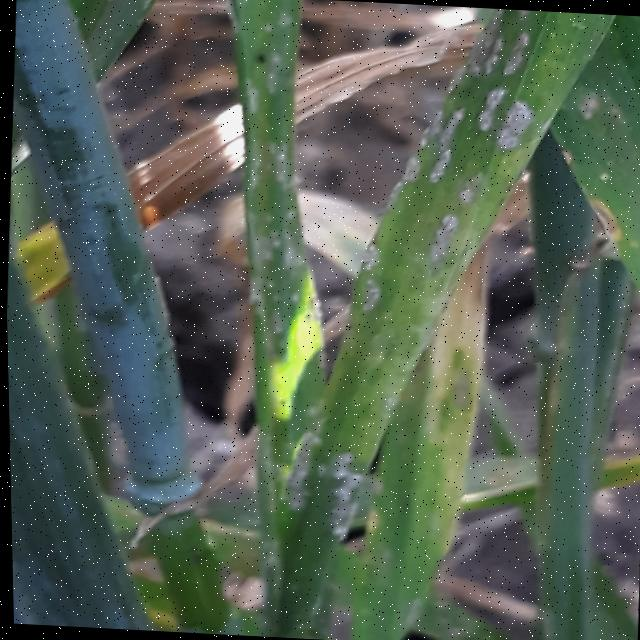powder_mildew: (241, 0, 625, 640), (208, 0, 339, 484), (540, 75, 640, 292)
